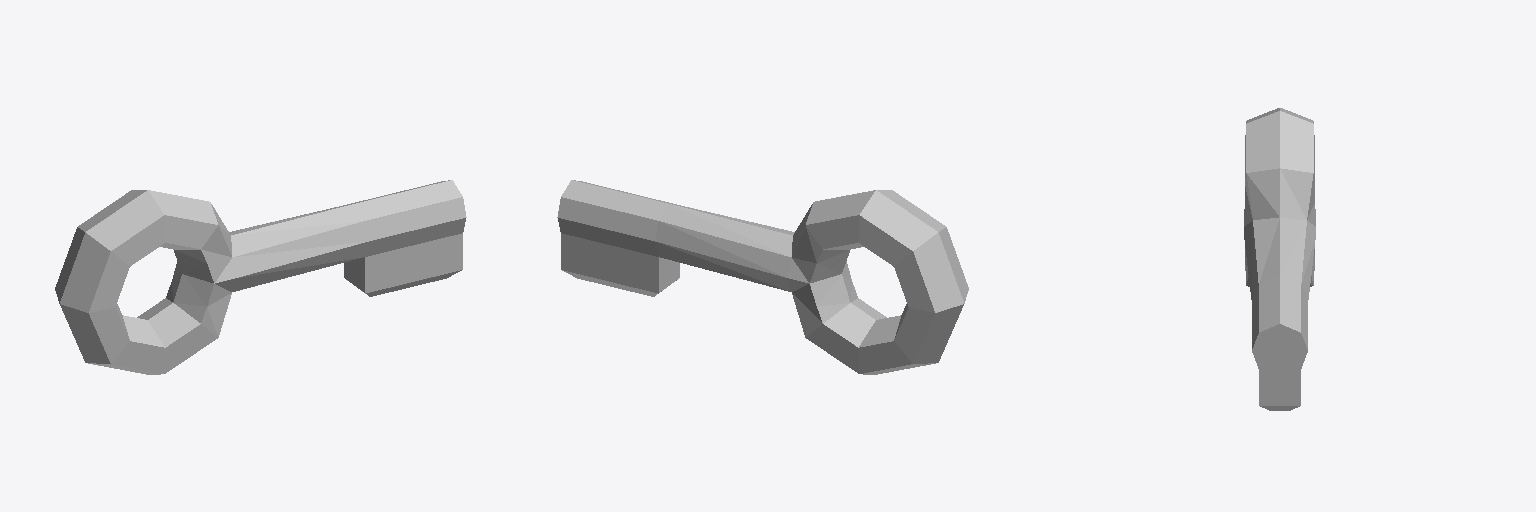
Rendered from key.obj.
3 renders of one model, left to right at view 1: azimuth 30°, elevation 25°; view 2: azimuth 150°, elevation 25°; view 3: azimuth 270°, elevation 25°, orthographic.
Parts seen in each view (by area): view 1: key; view 2: key; view 3: key.
Part boxes in pixels (left/top/right/bottom): key: left=55, top=180, right=466, bottom=374; key: left=557, top=180, right=968, bottom=374; key: left=1244, top=108, right=1315, bottom=410.
Size of the model in its own units: 0.8957 by 0.4029 by 0.1418.